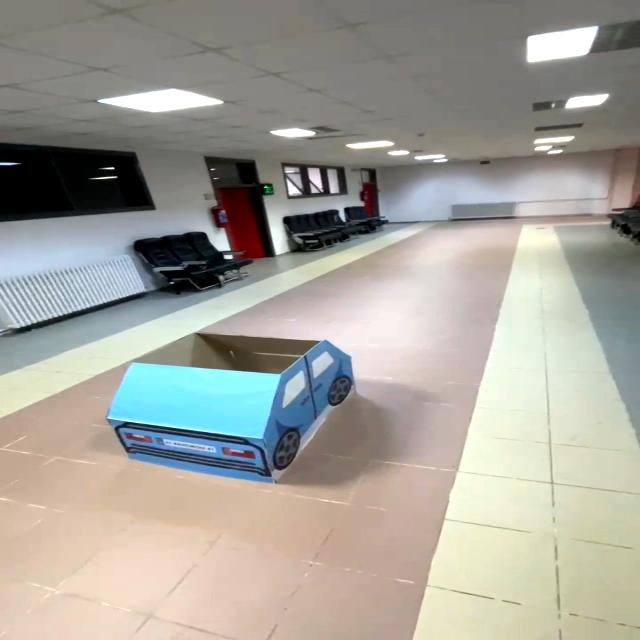blue_car: (85, 312, 363, 507)
